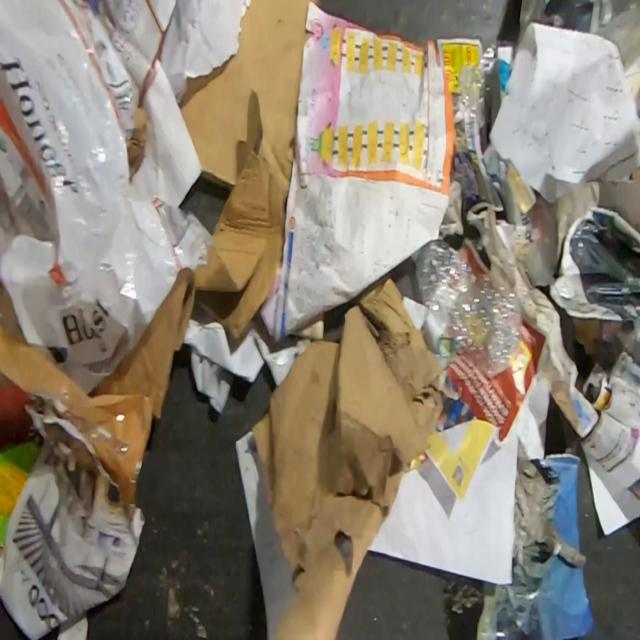cardboard: (252, 271, 446, 639), (177, 0, 321, 343), (88, 271, 196, 448), (184, 308, 327, 416), (87, 0, 180, 144), (550, 178, 640, 273), (0, 441, 42, 550), (130, 103, 150, 178)
rigid_plastic: (409, 239, 524, 379)
soft_plastic: (0, 0, 215, 396), (0, 283, 146, 521), (458, 38, 516, 141)
